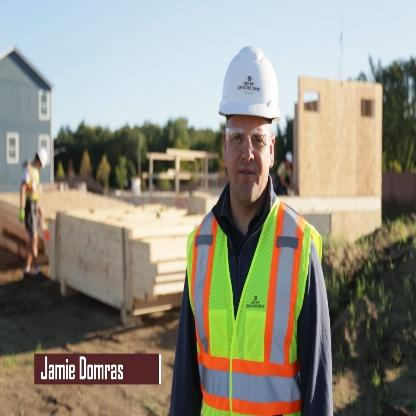helmet: (200, 46, 286, 210)
